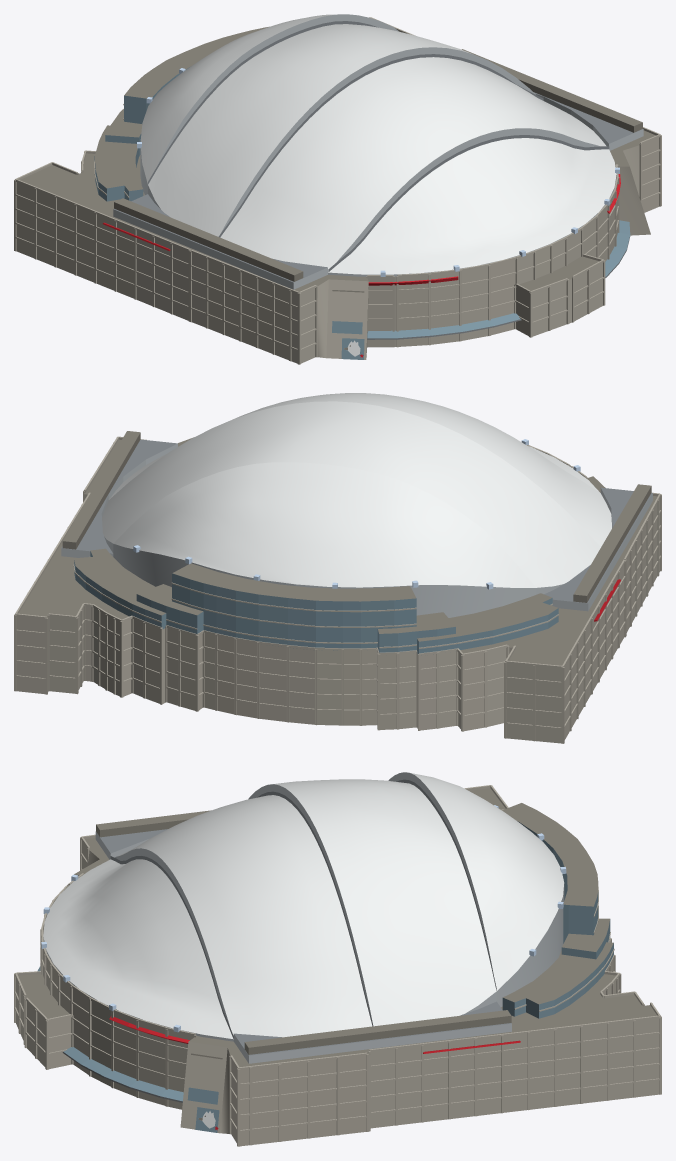
Rendered from rogers-centre-far.glb.
3 renders of one model, top to bottom at view 1: azimuth 30°, elevation 25°; view 2: azimuth 150°, elevation 25°; view 3: azimuth 270°, elevation 25°, orthographic. The views are drawn at different scales.
Visible parts, largest first — view 1: rogers-centre-0-roof, rogers-centre-0-concrete, rogers-centre-0-concrete_dark, rogers-centre-0-roof_seam, rogers-centre-0-steel, rogers-centre-0-glass_hotel, rogers-centre-0-sign; view 2: rogers-centre-0-roof, rogers-centre-0-concrete, rogers-centre-0-concrete_dark, rogers-centre-0-glass_hotel, rogers-centre-0-roof_seam, rogers-centre-0-steel; view 3: rogers-centre-0-roof, rogers-centre-0-concrete, rogers-centre-0-concrete_dark, rogers-centre-0-roof_seam, rogers-centre-0-glass_hotel, rogers-centre-0-steel, rogers-centre-0-sign.
Part boxes in pixels (x1,y1,x2,y2): rogers-centre-0-roof: (140, 14, 616, 356); rogers-centre-0-concrete: (14, 17, 661, 364); rogers-centre-0-concrete_dark: (20, 26, 655, 350); rogers-centre-0-roof_seam: (113, 14, 643, 289); rogers-centre-0-steel: (113, 21, 643, 339); rogers-centre-0-glass_hotel: (94, 67, 630, 359); rogers-centre-0-sign: (102, 174, 620, 357); rogers-centre-0-roof: (102, 393, 611, 587); rogers-centre-0-concrete: (14, 436, 661, 743); rogers-centre-0-concrete_dark: (18, 431, 657, 665); rogers-centre-0-glass_hotel: (74, 551, 558, 655); rogers-centre-0-roof_seam: (61, 443, 652, 617); rogers-centre-0-steel: (61, 439, 652, 603); rogers-centre-0-roof: (43, 773, 564, 1128); rogers-centre-0-concrete: (14, 785, 661, 1146); rogers-centre-0-concrete_dark: (18, 788, 656, 1120); rogers-centre-0-roof_seam: (43, 772, 564, 1063); rogers-centre-0-glass_hotel: (37, 821, 613, 1132); rogers-centre-0-steel: (62, 779, 511, 1102); rogers-centre-0-sign: (109, 1016, 520, 1130).
Size of the model in its own units: 255 by 86 by 246.
